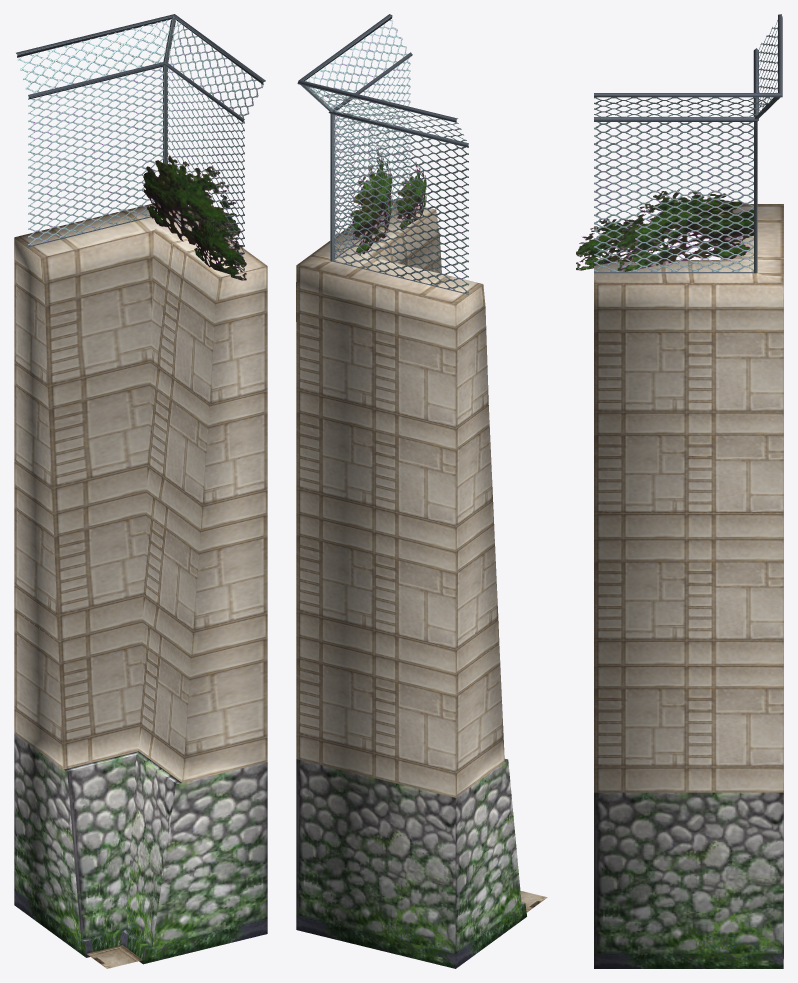
The model's file is a_SWEbwall01_2.glb.
3 renders of one model, left to right at view 1: azimuth 30°, elevation 25°; view 2: azimuth 150°, elevation 25°; view 3: azimuth 270°, elevation 25°, orthographic. The views are drawn at different scales.
Visible parts, largest first — view 1: a_SWEbwall01_2; view 2: a_SWEbwall01_2; view 3: a_SWEbwall01_2.
Boxes of the visible parts, <box> form: a_SWEbwall01_2: <box>14,14,267,968</box>; a_SWEbwall01_2: <box>296,14,547,968</box>; a_SWEbwall01_2: <box>576,14,783,968</box>.
Bounding box in the file's own units: 2 × 10.18 × 2.19.
5 materials, 5 textured.
